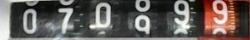digits: (132, 0, 152, 39), (91, 1, 115, 28), (172, 0, 191, 28), (211, 0, 229, 25), (57, 7, 73, 34), (22, 8, 36, 33)
